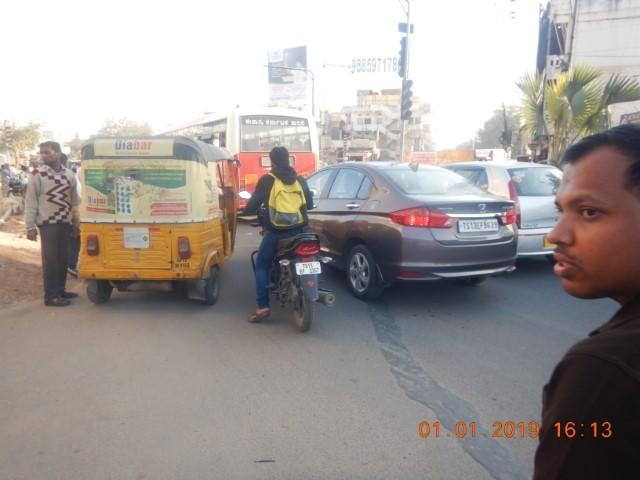plate: (295, 261, 322, 276)
